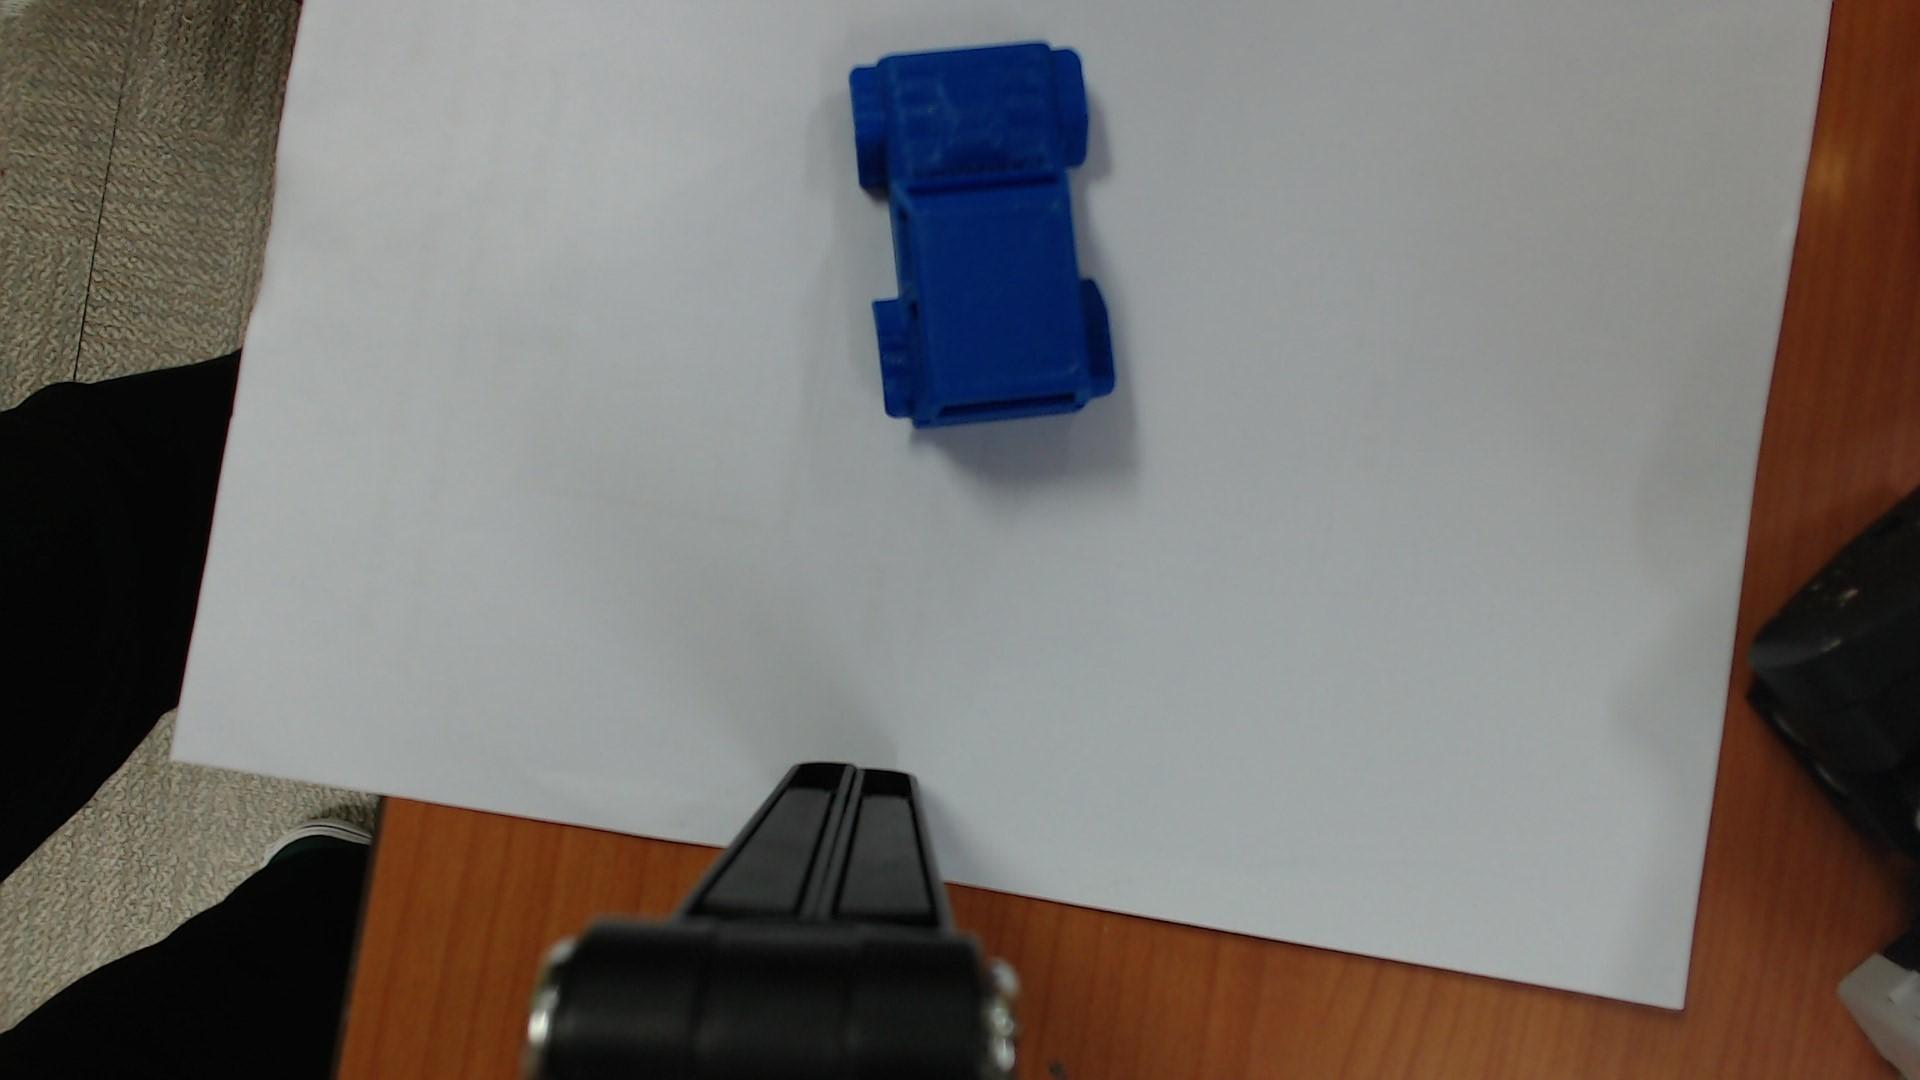Upper_ng: (849, 42, 1116, 427)
